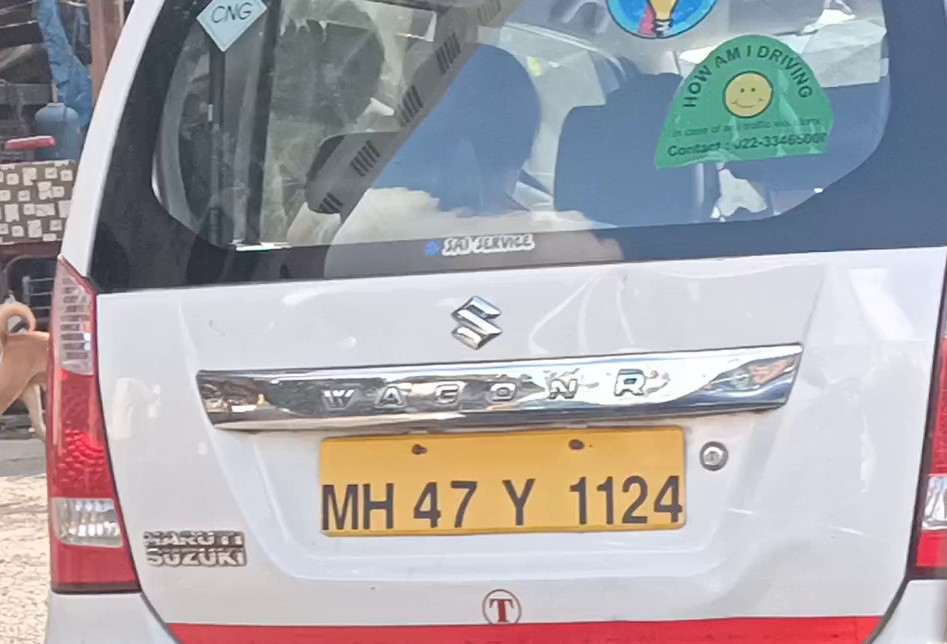MH47Y1124: (317, 424, 685, 537)
